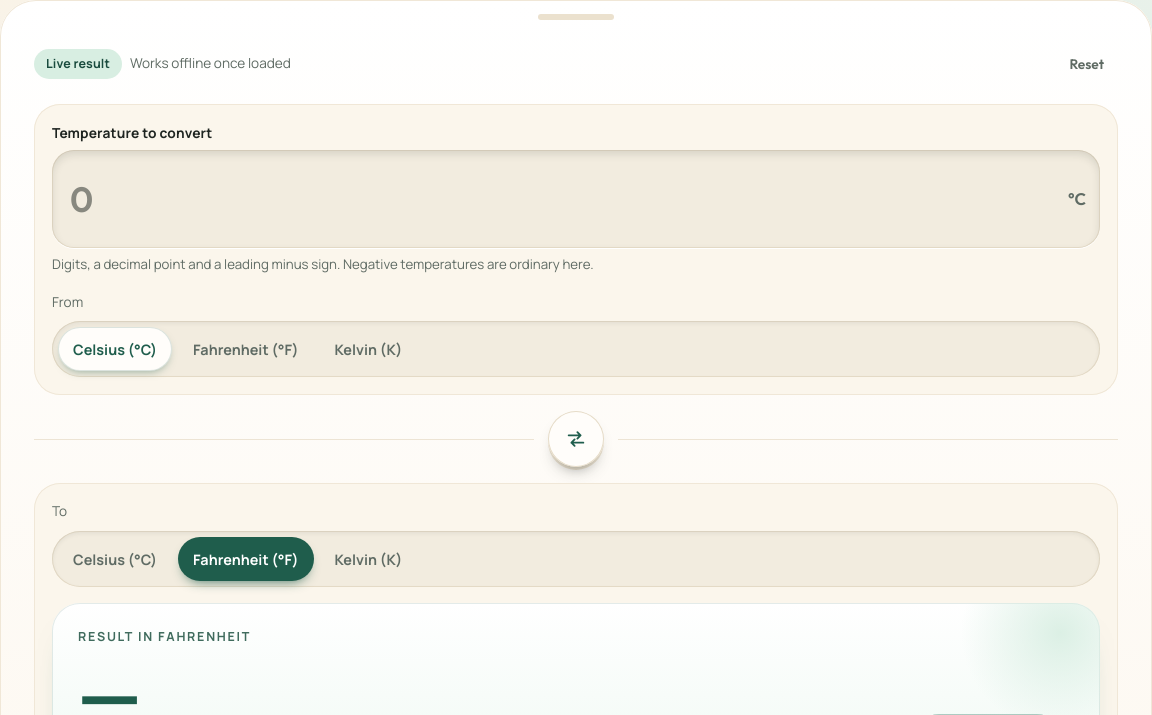
Test: TemperatureConverter › names the scales in the readout, with kelvin never a degree
The image size is (1152, 715).
Type "100" into the field labelled "Temperature to convert" at (563, 199), box 66,158 -> 1060,240
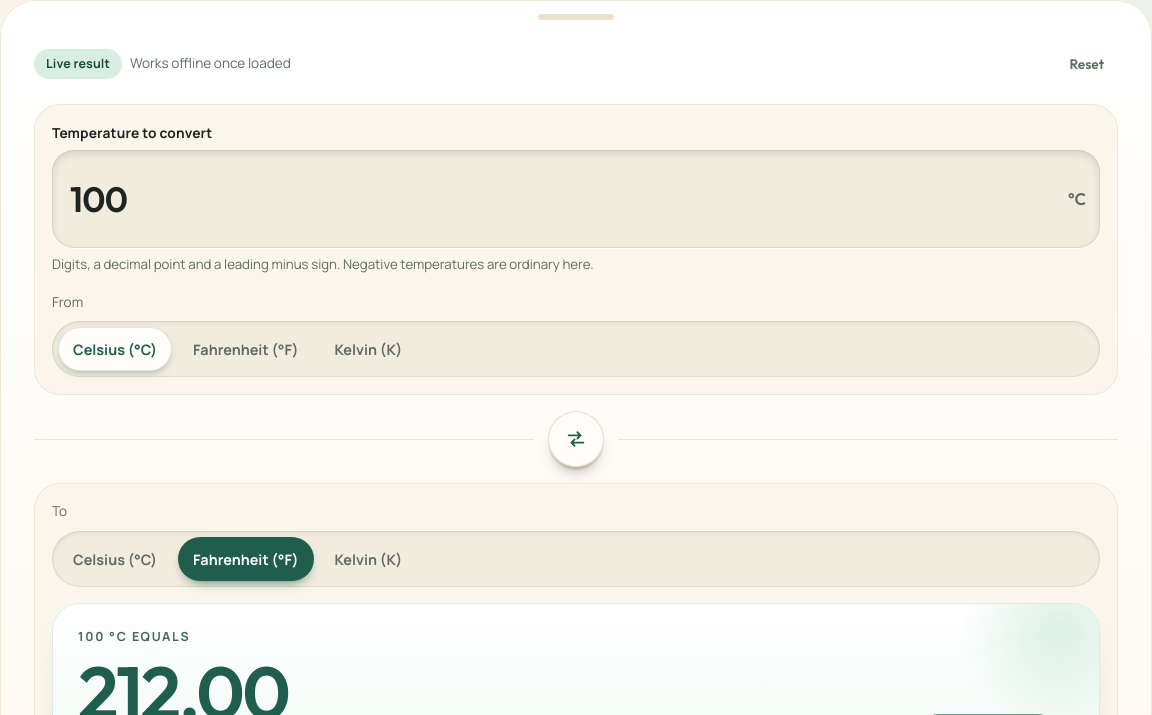
Expected: the text "100 °C equals" is shown, 78,628 -> 190,645
Click the 2nd radio button labelled "Kelvin (K)" at (368, 559), box 320,537 -> 417,581
(page scrolled)
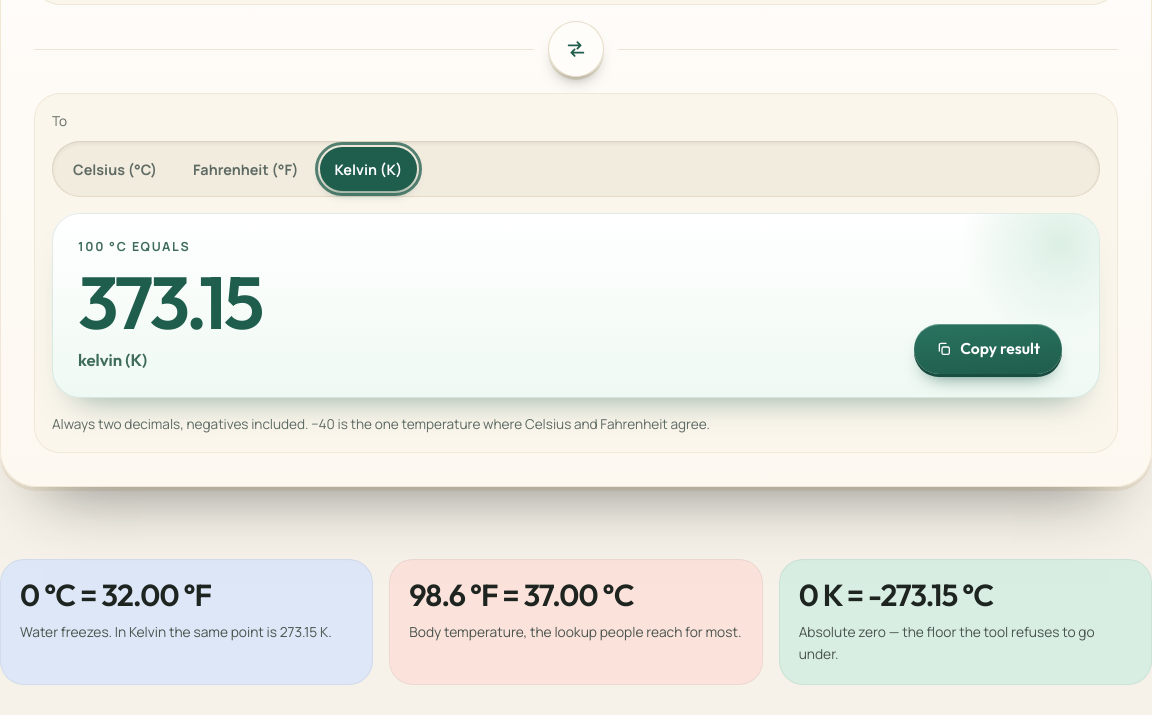
Expected: the text "kelvin (K)" is shown, 78,349 -> 147,370
